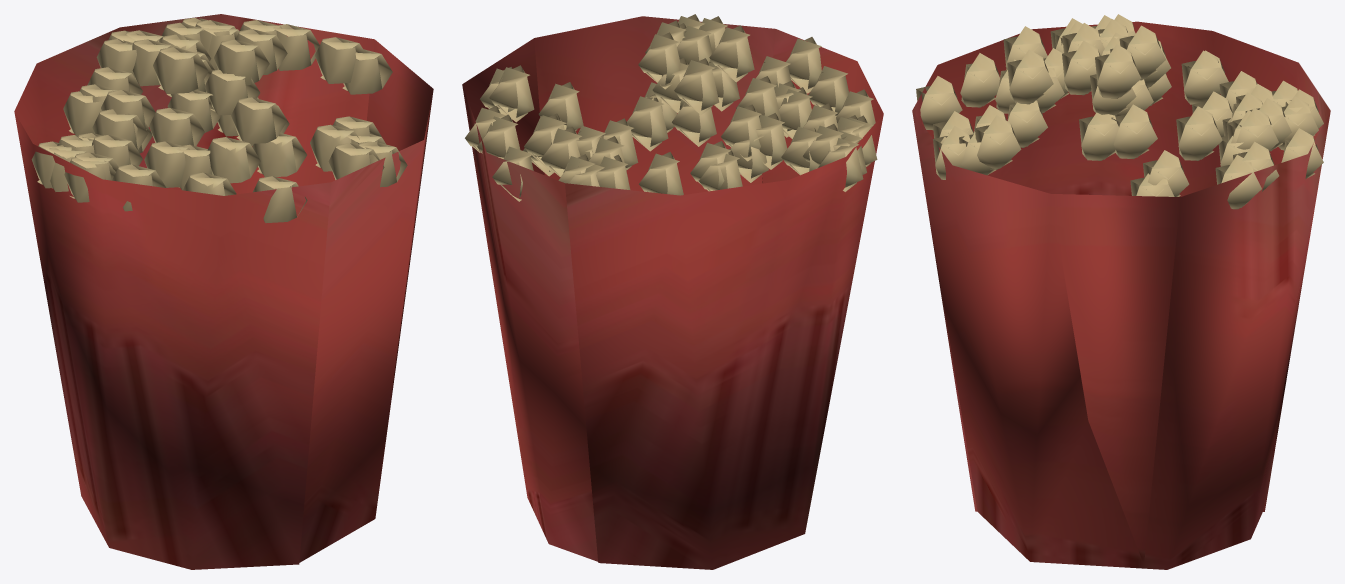
Rendered from FD11_PopcornBucket.glb.
3 views of the same model, side by side, from view 1: azimuth 30°, elevation 25°; view 2: azimuth 150°, elevation 25°; view 3: azimuth 270°, elevation 25° (orthographic).
Visible parts, largest first — view 1: FD11_PopcornBucket; view 2: FD11_PopcornBucket; view 3: FD11_PopcornBucket.
Boxes of the visible parts, left/top/right/bottom form: FD11_PopcornBucket: left=14, top=14, right=433, bottom=569; FD11_PopcornBucket: left=462, top=14, right=883, bottom=569; FD11_PopcornBucket: left=912, top=14, right=1330, bottom=569.
Size of the model in its own units: 0.2432 by 0.2972 by 0.2427.
2 materials, 2 textured.
